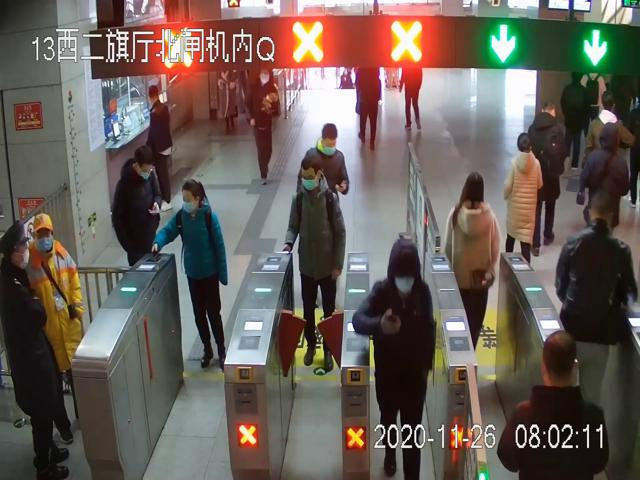person: (352, 241, 437, 480), (0, 217, 71, 480), (21, 213, 86, 442), (152, 178, 227, 370), (284, 159, 346, 373), (442, 172, 502, 371), (298, 122, 350, 306), (113, 145, 165, 267), (503, 133, 538, 263)
